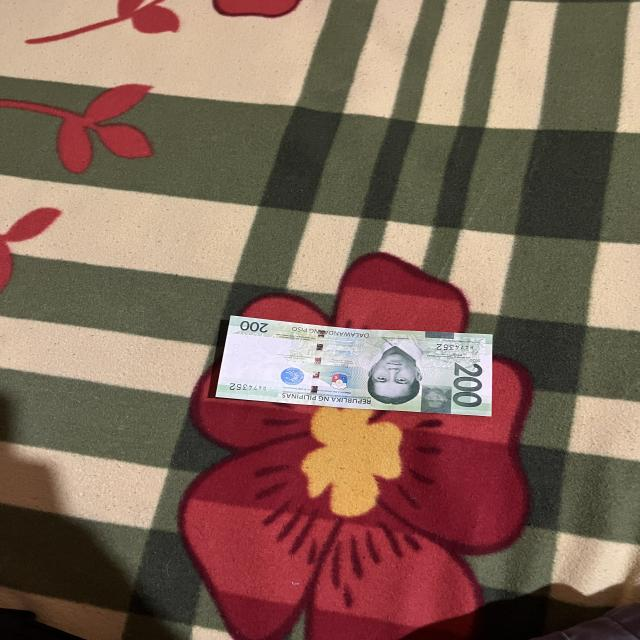concealed_value: (421, 384, 452, 414)
security_thread: (309, 325, 327, 405)
see_through_mark: (237, 329, 280, 341)
serial_number: (429, 337, 478, 356), (228, 382, 268, 392)
value: (453, 362, 482, 408)
watermark: (226, 336, 286, 384)
